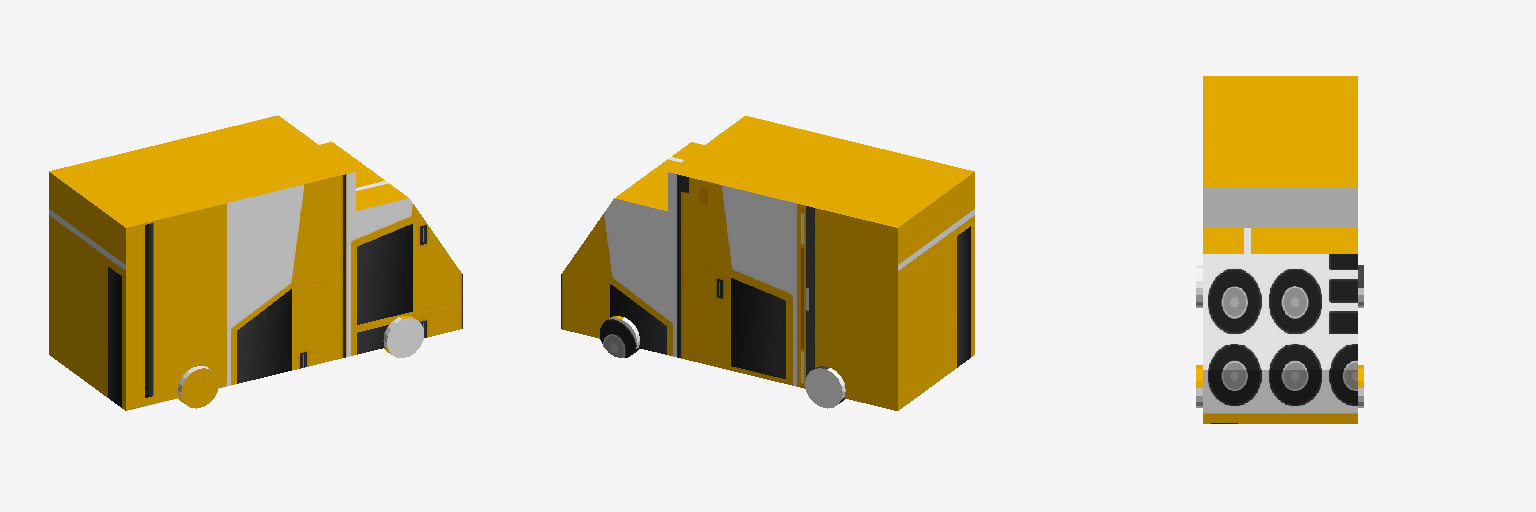
3 views of the same model, side by side, from view 1: azimuth 30°, elevation 25°; view 2: azimuth 150°, elevation 25°; view 3: azimuth 270°, elevation 25° (orthographic).
Visible parts, largest first — view 1: Car_09; view 2: Car_09; view 3: Car_09.
Part boxes in pixels (x1,y1,x2,y2): Car_09: (49, 115, 462, 410); Car_09: (561, 116, 974, 410); Car_09: (1196, 76, 1363, 423).
Size of the model in its own units: 18.11 by 9.99 by 7.78.
1 materials, 1 textured.